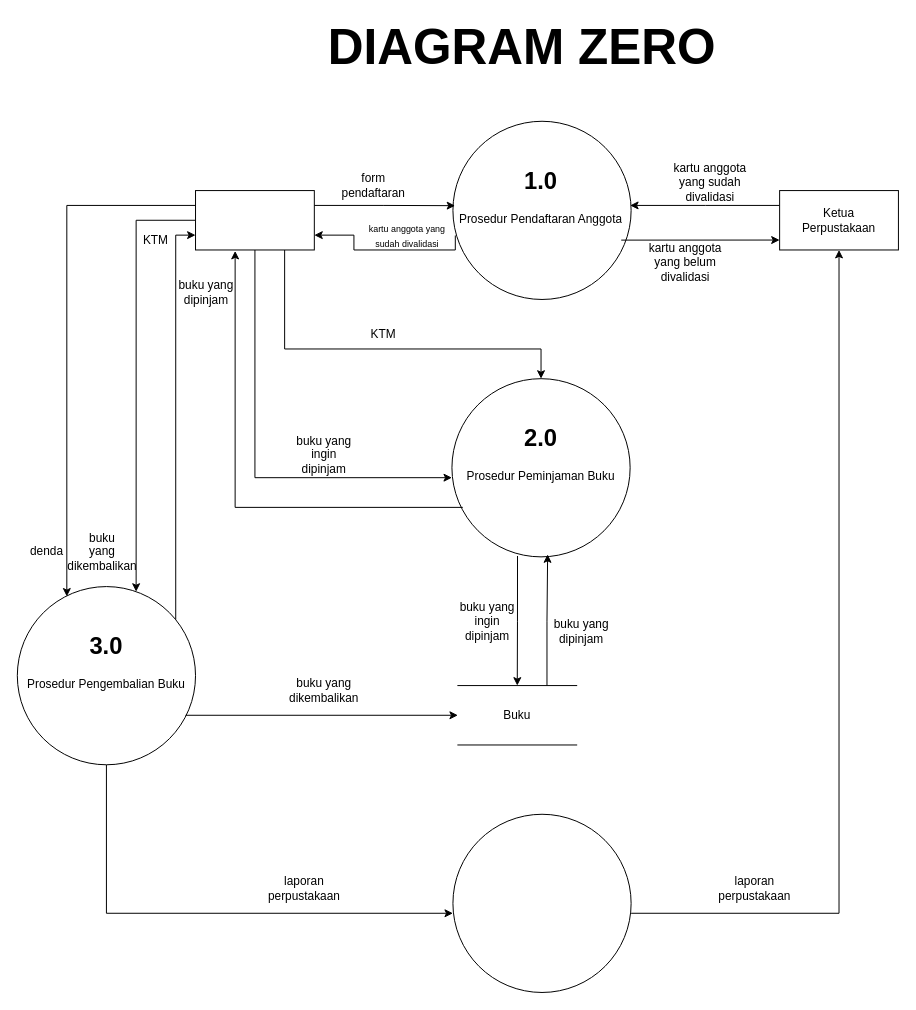
This 916x1010 diagram has some shape labels left out. Each missing label, with the centre of its shape:
"4.0 Prosedur Pelaporan" belongs at pixel 541 902.
"Anggota" belongs at pixel 254 220.
